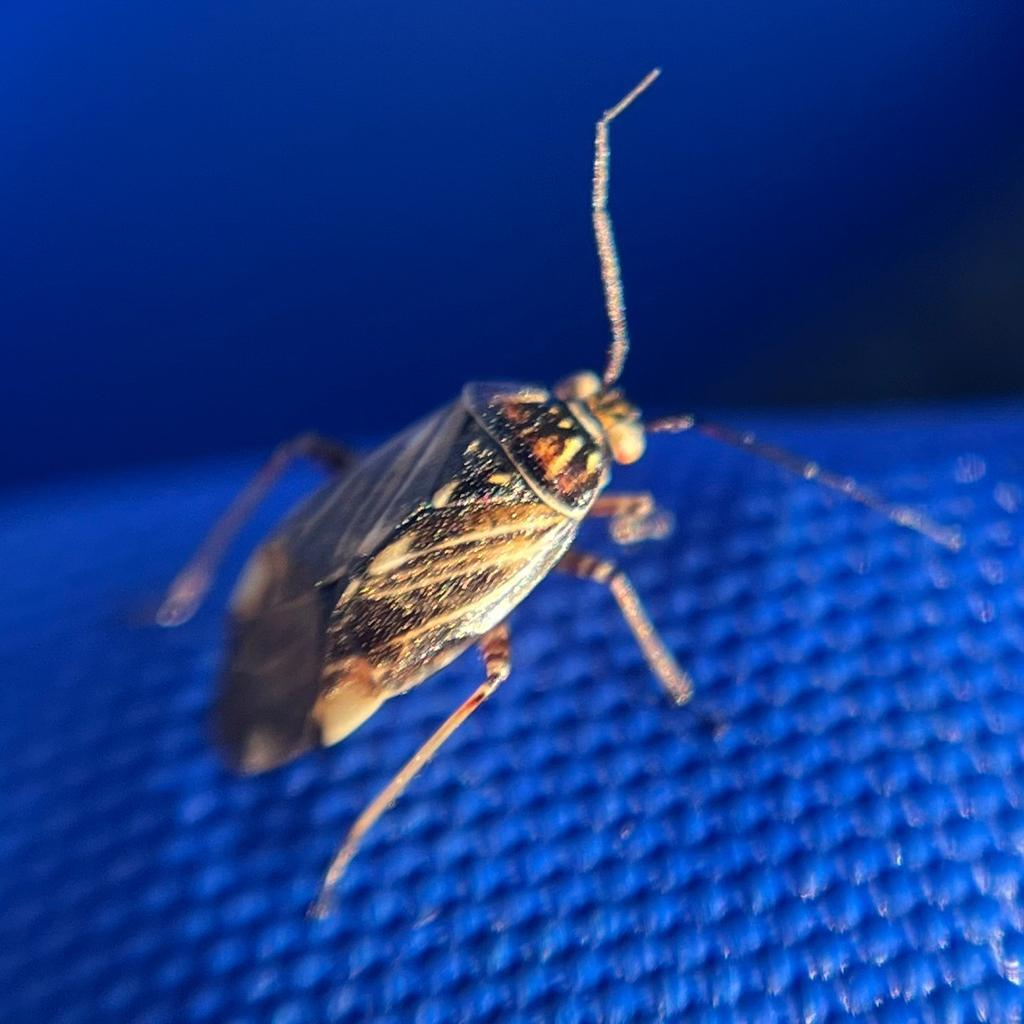plant_bugs: (9, 0, 1024, 991)
